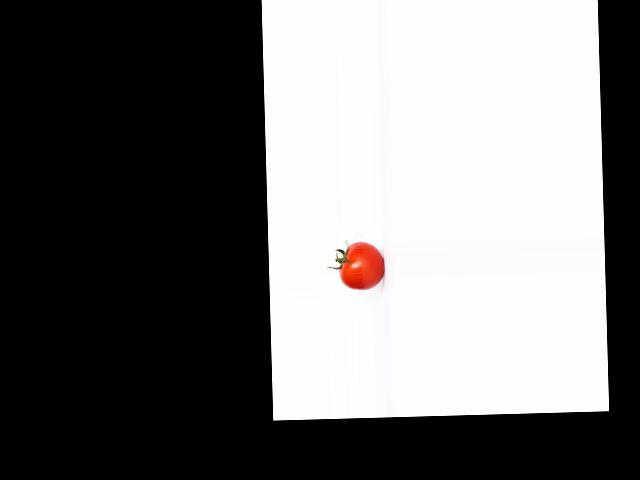tomato: (338, 241, 384, 291)
